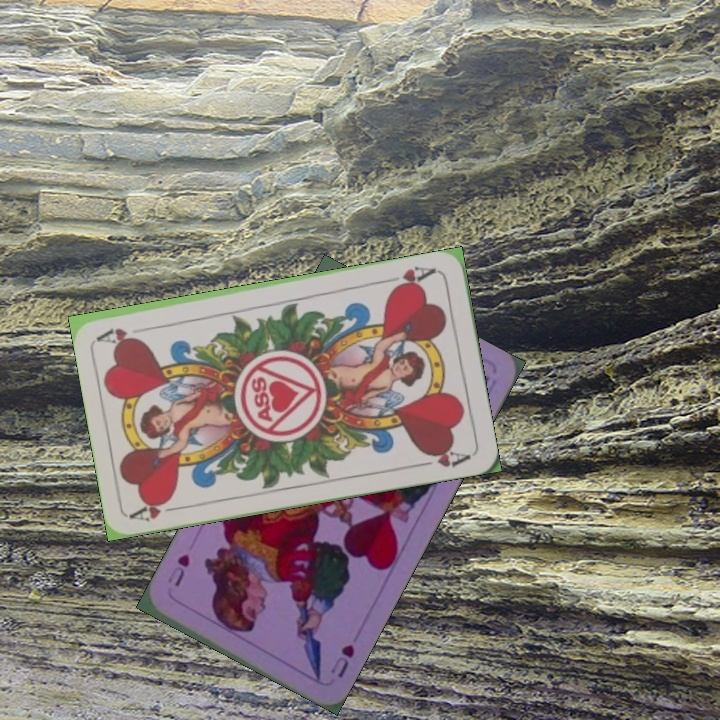HA: (128, 494, 187, 525), (381, 262, 439, 293)
HU: (326, 640, 357, 681)
